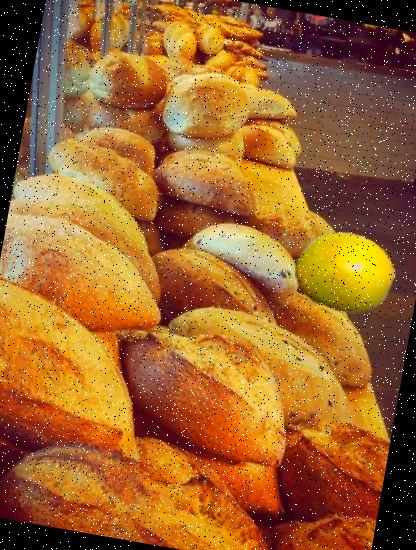Maracuja: (286, 214, 404, 331)
